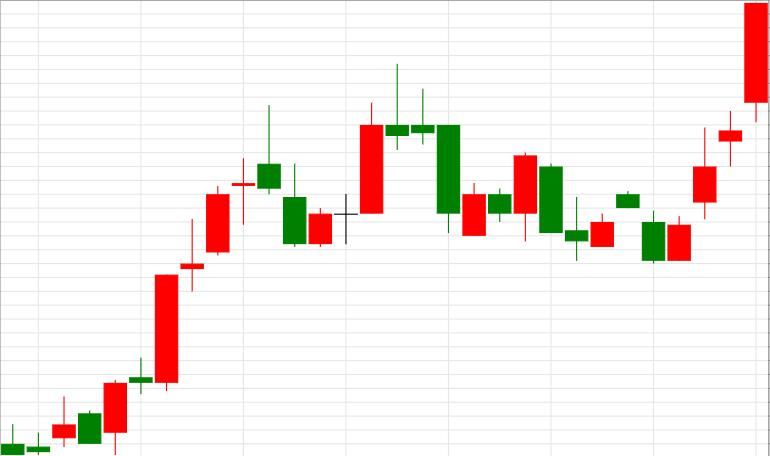shooting_star_fall: (105, 106, 281, 454)
